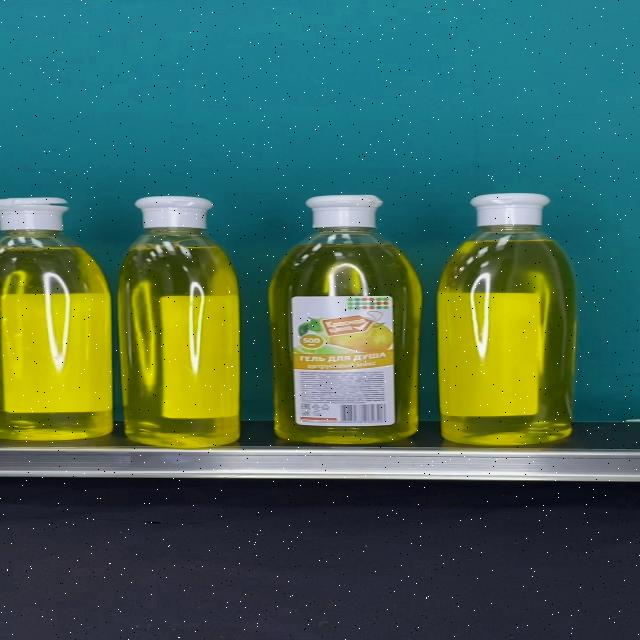Bottle: (268, 196, 422, 443), (438, 192, 576, 444), (117, 196, 239, 449)
Cap: (469, 192, 551, 226), (135, 196, 213, 229), (303, 196, 383, 228)
